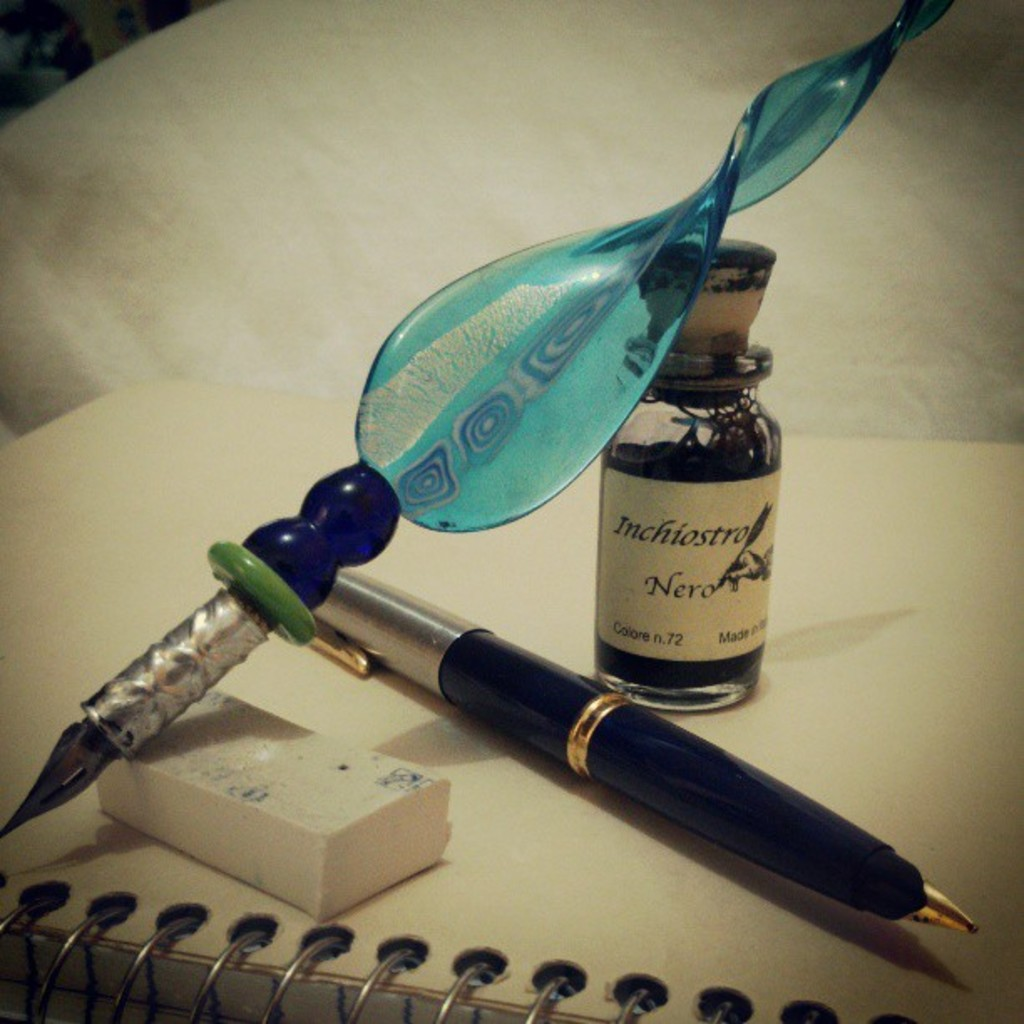Pen: (284, 564, 986, 944)
